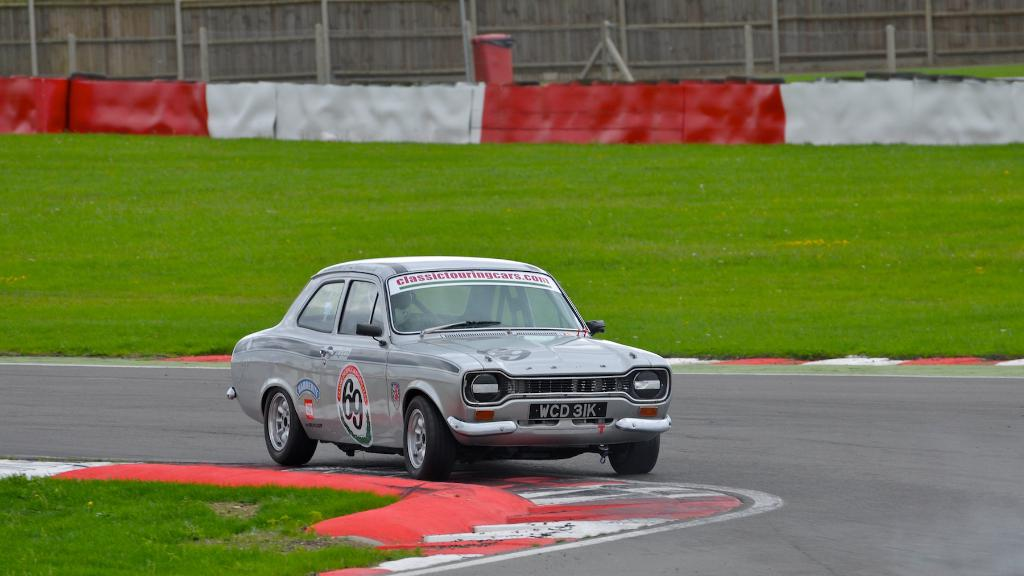Car: (226, 259, 671, 481)
